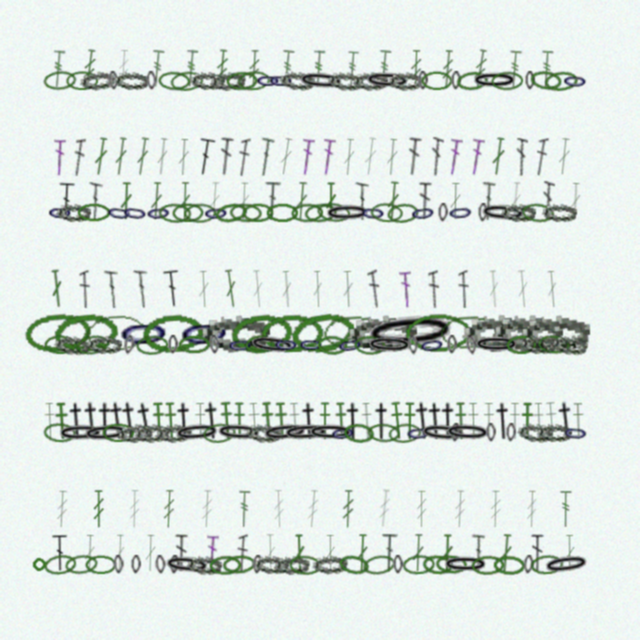chain: (362, 310, 459, 355), (288, 309, 357, 356), (199, 312, 271, 354), (346, 312, 418, 354), (519, 312, 591, 354), (23, 311, 92, 354), (462, 312, 533, 353), (229, 311, 295, 355), (52, 311, 119, 354), (141, 312, 206, 354), (493, 313, 563, 352), (84, 312, 150, 353), (320, 312, 385, 353), (437, 312, 501, 353), (405, 313, 472, 352), (260, 313, 325, 353), (177, 312, 232, 354), (117, 313, 171, 353), (542, 552, 591, 577), (248, 333, 296, 357), (173, 421, 221, 444), (261, 421, 309, 444), (297, 70, 345, 92), (479, 202, 527, 224), (82, 422, 130, 444), (419, 422, 467, 444), (163, 554, 211, 576), (215, 422, 263, 443), (282, 422, 330, 443), (364, 70, 411, 91), (444, 422, 491, 443), (324, 203, 371, 223), (366, 335, 413, 355), (57, 423, 104, 443), (471, 71, 518, 90), (473, 335, 520, 354), (307, 423, 354, 442), (442, 555, 489, 574), (117, 421, 154, 445), (79, 69, 116, 92), (75, 333, 110, 357), (214, 201, 248, 225), (337, 553, 371, 577), (362, 553, 396, 577), (316, 201, 351, 224), (64, 553, 99, 576), (210, 70, 246, 92), (54, 334, 90, 356), (552, 334, 588, 356), (134, 422, 170, 444), (156, 422, 192, 444), (529, 69, 563, 92), (43, 553, 77, 576), (202, 422, 237, 444), (279, 70, 315, 91), (517, 422, 553, 443), (312, 554, 348, 575), (170, 70, 204, 92), (544, 70, 578, 92), (386, 202, 420, 224), (521, 202, 555, 224), (388, 422, 422, 444), (456, 70, 489, 92), (304, 202, 337, 224), (274, 555, 310, 575), (43, 70, 77, 91), (237, 70, 271, 91), (222, 554, 256, 575), (530, 554, 564, 575), (343, 422, 375, 444), (328, 71, 363, 91), (353, 71, 388, 91), (388, 71, 423, 91), (246, 423, 281, 443), (187, 555, 222, 575), (370, 202, 403, 223), (537, 334, 570, 355), (43, 422, 76, 443), (402, 554, 435, 575), (435, 554, 468, 575), (158, 203, 192, 223), (244, 334, 276, 355), (422, 554, 454, 575), (114, 71, 149, 90), (190, 71, 225, 90), (56, 203, 91, 222), (501, 203, 536, 222), (542, 203, 577, 222), (87, 335, 122, 354), (521, 335, 556, 354), (537, 423, 572, 442), (254, 555, 289, 574), (229, 203, 262, 223), (367, 423, 400, 443), (471, 555, 504, 575), (158, 71, 190, 91), (226, 71, 258, 91), (491, 71, 523, 91), (184, 203, 216, 223), (291, 203, 323, 223), (136, 335, 168, 355), (354, 335, 386, 355), (209, 555, 241, 575), (289, 555, 321, 575), (493, 555, 525, 575), (77, 203, 110, 222), (317, 335, 348, 355), (105, 202, 133, 224), (121, 202, 149, 224), (409, 202, 437, 224), (336, 334, 364, 356), (418, 334, 446, 356), (329, 422, 357, 444), (66, 71, 98, 90), (421, 71, 453, 90), (172, 203, 204, 222), (242, 203, 274, 222), (266, 203, 298, 222), (44, 335, 76, 354), (178, 335, 210, 354), (102, 423, 134, 442), (85, 555, 117, 574), (506, 335, 537, 354), (447, 202, 474, 223), (145, 203, 172, 223), (405, 423, 432, 443), (562, 423, 589, 443), (562, 71, 588, 91), (203, 203, 229, 223), (360, 203, 386, 223), (227, 335, 253, 355), (255, 71, 281, 90), (268, 71, 294, 90), (47, 203, 73, 222), (273, 335, 299, 354), (298, 335, 324, 354), (465, 335, 478, 355), (123, 335, 135, 355), (407, 335, 419, 355), (108, 71, 119, 90), (146, 71, 157, 90), (209, 335, 220, 354), (450, 423, 461, 442), (113, 555, 124, 574), (155, 555, 166, 574), (169, 555, 180, 574), (252, 555, 263, 574), (523, 555, 534, 574), (418, 71, 428, 90), (451, 71, 461, 90), (525, 71, 535, 90), (438, 203, 448, 222), (478, 203, 488, 222), (168, 335, 178, 354), (447, 335, 457, 354), (486, 423, 496, 442), (506, 423, 516, 442), (131, 555, 141, 574), (393, 555, 403, 574)
double: (195, 137, 216, 177), (255, 137, 275, 176), (163, 269, 182, 308), (92, 137, 110, 176), (277, 137, 295, 176), (222, 269, 240, 308), (134, 137, 151, 176), (362, 137, 379, 176), (446, 137, 463, 176), (468, 137, 485, 176), (490, 137, 507, 176), (479, 181, 496, 220), (133, 269, 150, 308), (58, 182, 75, 220), (264, 182, 281, 220), (381, 534, 398, 572), (113, 137, 129, 176), (218, 137, 234, 176), (299, 137, 315, 176), (320, 137, 336, 176), (406, 137, 422, 176), (428, 137, 444, 176), (556, 137, 572, 176), (385, 181, 401, 220), (49, 269, 65, 308), (341, 138, 357, 176), (384, 138, 400, 176), (87, 182, 103, 220), (104, 270, 120, 308), (250, 270, 266, 308), (515, 270, 531, 308), (52, 534, 68, 572), (498, 534, 514, 572), (155, 137, 170, 176), (534, 137, 549, 176), (540, 181, 555, 220), (367, 269, 382, 308), (176, 138, 191, 176), (149, 182, 164, 220), (207, 182, 222, 220), (294, 182, 309, 220), (508, 182, 523, 220), (470, 534, 485, 572), (72, 138, 86, 176), (237, 138, 251, 176), (514, 138, 528, 176), (119, 182, 133, 220), (178, 182, 192, 220), (237, 182, 251, 220), (355, 182, 369, 220), (418, 182, 432, 220), (197, 270, 211, 308), (280, 270, 294, 308), (341, 270, 355, 308), (399, 270, 413, 308), (487, 270, 501, 308), (545, 270, 559, 308), (205, 534, 219, 572), (355, 534, 369, 572), (411, 534, 425, 572), (440, 534, 454, 572), (53, 138, 66, 176), (449, 182, 462, 220), (569, 182, 582, 220), (311, 270, 324, 308), (83, 534, 96, 572), (113, 534, 126, 572), (144, 534, 157, 572), (175, 534, 188, 572), (264, 534, 277, 572), (293, 534, 306, 572), (531, 534, 544, 572), (563, 534, 576, 572), (325, 182, 337, 220), (79, 270, 91, 308), (428, 270, 440, 308), (458, 270, 470, 308), (324, 534, 336, 572), (237, 534, 248, 572)
half_double: (132, 401, 159, 441), (105, 401, 130, 440), (117, 401, 142, 440), (200, 401, 224, 440), (411, 401, 435, 440), (554, 401, 578, 440), (80, 401, 103, 440), (65, 402, 88, 440), (370, 402, 393, 440), (424, 402, 447, 440), (94, 402, 116, 440), (173, 402, 195, 440), (298, 402, 320, 440), (342, 402, 364, 440), (437, 402, 459, 440), (492, 402, 514, 440), (259, 401, 277, 440), (218, 401, 235, 440), (389, 401, 406, 440), (543, 401, 560, 440), (53, 402, 70, 440), (150, 402, 167, 440), (162, 402, 179, 440), (246, 402, 263, 440), (273, 402, 290, 440), (287, 402, 303, 440), (333, 402, 349, 440), (359, 402, 375, 440), (453, 402, 469, 440), (570, 402, 586, 440), (42, 402, 57, 440), (232, 402, 247, 440), (402, 402, 417, 440), (466, 402, 481, 440), (531, 402, 546, 440), (193, 402, 207, 440), (318, 402, 332, 440), (482, 402, 496, 440), (508, 402, 522, 440), (520, 402, 534, 440)
noise: (31, 556, 47, 572)
treble: (81, 49, 98, 88), (149, 49, 166, 88), (279, 49, 296, 88), (376, 49, 393, 88), (472, 49, 489, 88), (183, 49, 199, 88), (214, 49, 230, 88), (50, 50, 66, 88), (507, 50, 523, 88), (539, 50, 555, 88), (305, 490, 321, 528), (377, 489, 392, 528), (116, 50, 131, 88), (311, 50, 326, 88), (345, 50, 360, 88), (440, 50, 455, 88), (237, 490, 252, 528), (247, 50, 261, 88), (409, 50, 423, 88), (55, 490, 69, 528), (162, 490, 176, 528), (200, 490, 214, 528), (272, 490, 286, 528), (341, 490, 355, 528), (453, 490, 467, 528), (559, 490, 573, 528), (92, 490, 105, 528), (128, 490, 141, 528), (415, 490, 428, 528), (489, 490, 502, 528), (525, 490, 538, 528)
